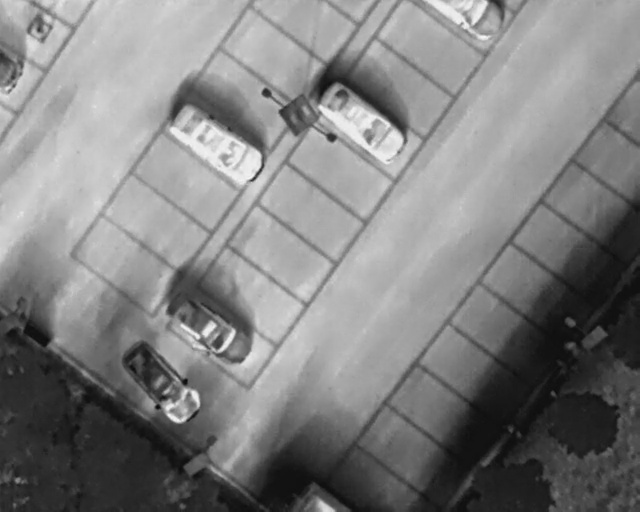Car: (162, 97, 272, 191), (311, 75, 412, 164), (113, 335, 206, 429), (160, 288, 257, 370), (413, 1, 503, 40)
